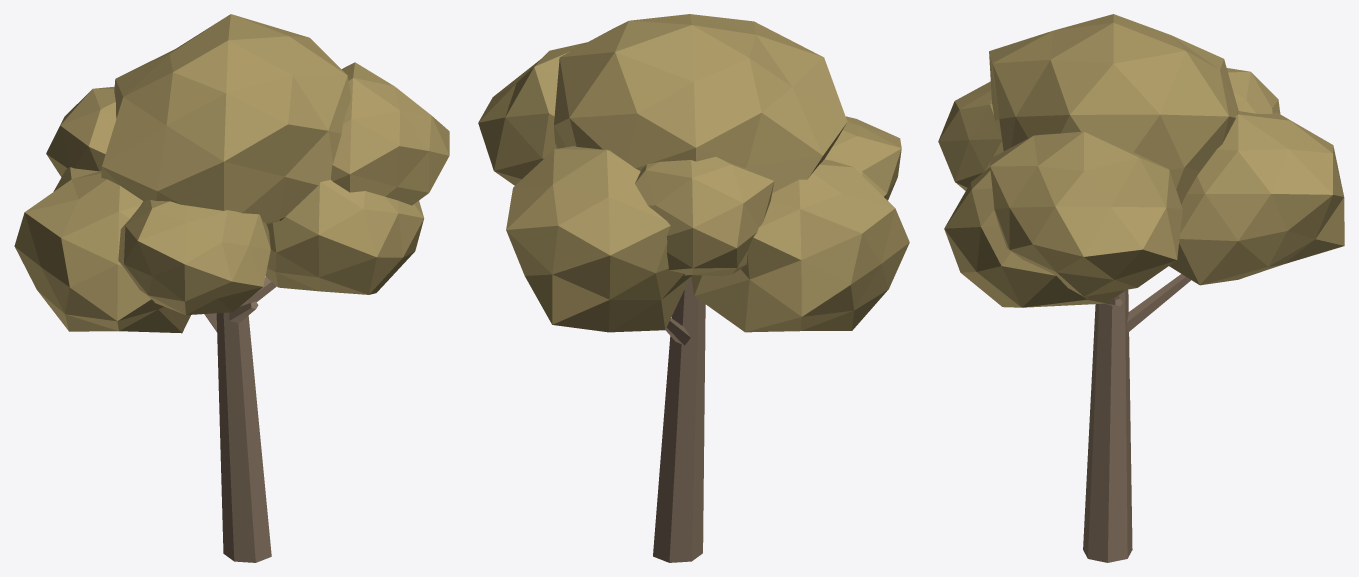
Rendered from TreeBroad_Warm.gltf.
The picture shows the model from 3 angles, left to right: view 1: azimuth 30°, elevation 25°; view 2: azimuth 150°, elevation 25°; view 3: azimuth 270°, elevation 25°; orthographic projection. The views are drawn at different scales.
Visible parts, largest first — view 1: TreeBroad_Warm; view 2: TreeBroad_Warm; view 3: TreeBroad_Warm.
Boxes of the visible parts, <box> form: TreeBroad_Warm: <box>14,14,449,562</box>; TreeBroad_Warm: <box>478,14,909,562</box>; TreeBroad_Warm: <box>938,14,1344,562</box>.
Bounding box in the file's own units: 6.49 × 8.15 × 5.77.
